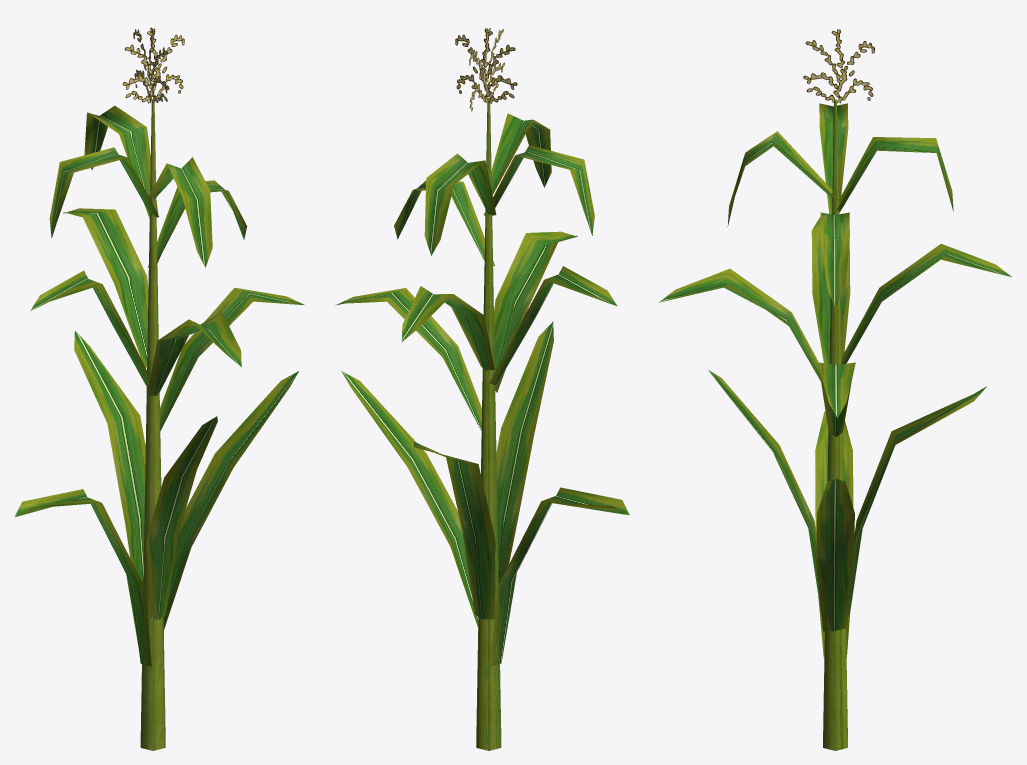
Rendered from CornStalk.FBX.
3 renders of one model, left to right at view 1: azimuth 30°, elevation 25°; view 2: azimuth 150°, elevation 25°; view 3: azimuth 270°, elevation 25°, orthographic.
Visible parts, largest first — view 1: Corn Stalk; view 2: Corn Stalk; view 3: Corn Stalk.
Part boxes in pixels (x1,y1,x2,y2): Corn Stalk: (14, 27, 304, 750); Corn Stalk: (335, 28, 629, 750); Corn Stalk: (659, 29, 1011, 750).
Bounding box in the file's own units: 80.21 × 187 × 83.94.
